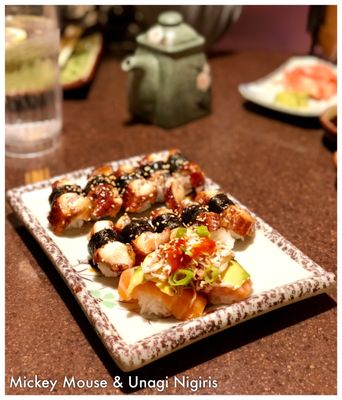pizza: (5, 7, 65, 161)
